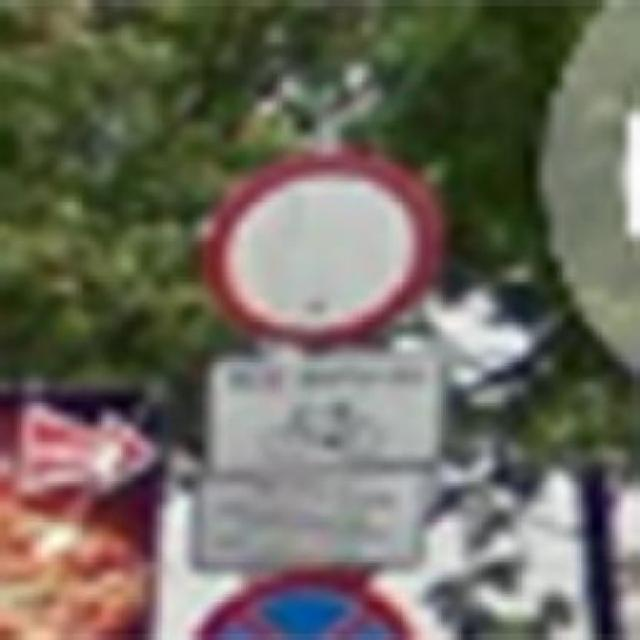Zakaz ruchu w obu kierunkach: (200, 145, 448, 346)
